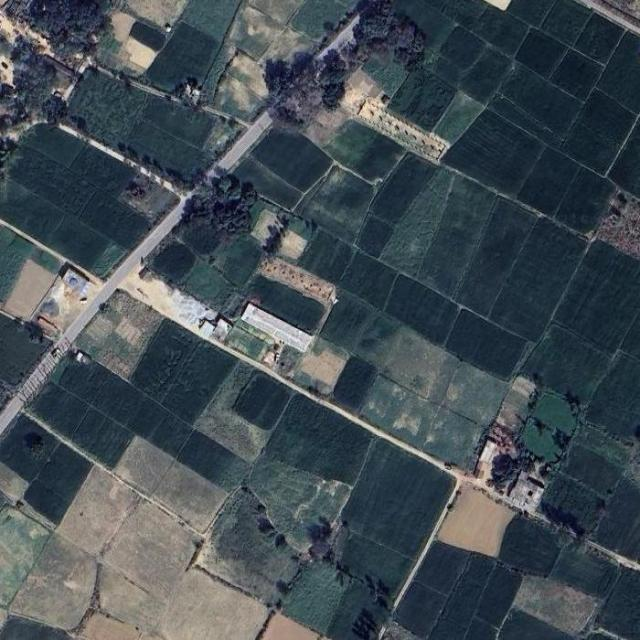land-Sx1C: (337, 436, 458, 560), (195, 487, 306, 606), (0, 175, 129, 277), (490, 219, 588, 343), (100, 498, 204, 606), (261, 392, 374, 487), (453, 196, 539, 319), (553, 239, 640, 355), (250, 456, 351, 553), (438, 109, 545, 199), (419, 175, 496, 298), (150, 567, 273, 640), (379, 167, 457, 279), (10, 533, 98, 629), (94, 374, 192, 458), (73, 292, 164, 380), (519, 324, 613, 407), (194, 360, 269, 464), (319, 524, 416, 602), (57, 467, 140, 558), (57, 66, 148, 148), (3, 146, 97, 219), (499, 63, 584, 140), (163, 340, 238, 427), (560, 91, 637, 175), (445, 309, 534, 381), (299, 163, 377, 245), (251, 119, 335, 193), (130, 317, 201, 404), (122, 119, 214, 186), (380, 327, 459, 405), (138, 22, 223, 94), (436, 482, 516, 558), (358, 376, 440, 449), (429, 552, 497, 640), (321, 116, 406, 185), (279, 555, 351, 636), (23, 444, 93, 526), (150, 462, 229, 532), (386, 273, 459, 348), (241, 273, 328, 334), (0, 505, 51, 609), (514, 574, 595, 638), (369, 151, 439, 225), (582, 353, 640, 442), (0, 223, 64, 302), (211, 52, 283, 122), (442, 360, 511, 430), (388, 65, 458, 133), (432, 47, 514, 105), (177, 430, 251, 494), (79, 189, 153, 250), (555, 167, 619, 237), (517, 148, 581, 218), (535, 472, 603, 537), (590, 477, 640, 565), (0, 411, 61, 483), (139, 93, 218, 148), (550, 539, 620, 601), (422, 408, 486, 475), (68, 407, 134, 471), (100, 564, 161, 633), (257, 256, 336, 308), (325, 581, 394, 640), (229, 155, 303, 210), (488, 95, 563, 149), (111, 435, 175, 497), (500, 514, 565, 575), (522, 394, 578, 464), (25, 382, 89, 441), (256, 26, 322, 83), (70, 143, 137, 199), (597, 29, 640, 114), (318, 289, 375, 353), (593, 562, 639, 640), (392, 0, 459, 53), (232, 372, 293, 430), (288, 0, 370, 43), (561, 447, 627, 500), (337, 252, 397, 310), (207, 234, 268, 288), (120, 172, 182, 225), (294, 229, 353, 284), (3, 258, 56, 319), (412, 541, 471, 595), (17, 123, 87, 168), (393, 582, 448, 639), (475, 563, 523, 628), (329, 354, 380, 413), (229, 6, 284, 60), (355, 310, 405, 369), (182, 259, 238, 311), (494, 377, 541, 438), (550, 49, 604, 101), (476, 5, 529, 57), (433, 92, 484, 145), (516, 28, 569, 79), (608, 117, 640, 201), (180, 0, 241, 44), (359, 46, 411, 97), (575, 13, 627, 64), (573, 425, 633, 469), (596, 194, 640, 254), (499, 607, 576, 640), (541, 0, 594, 47), (58, 360, 113, 405), (331, 69, 384, 115), (201, 42, 237, 107), (148, 238, 197, 283), (300, 99, 348, 144), (439, 26, 488, 70), (418, 0, 488, 30), (178, 217, 228, 258), (126, 0, 187, 32), (0, 616, 76, 640), (299, 349, 347, 386), (204, 117, 246, 159), (76, 613, 140, 640), (259, 615, 326, 640), (245, 0, 304, 27), (355, 215, 391, 258), (506, 0, 555, 28), (250, 208, 286, 246), (0, 463, 29, 504), (130, 21, 167, 53), (120, 37, 156, 69), (249, 196, 282, 230), (292, 370, 332, 398), (276, 228, 308, 260), (619, 315, 640, 360), (109, 10, 135, 44), (311, 338, 351, 360), (465, 618, 498, 640), (288, 216, 317, 240), (485, 0, 510, 10), (0, 493, 11, 510)
